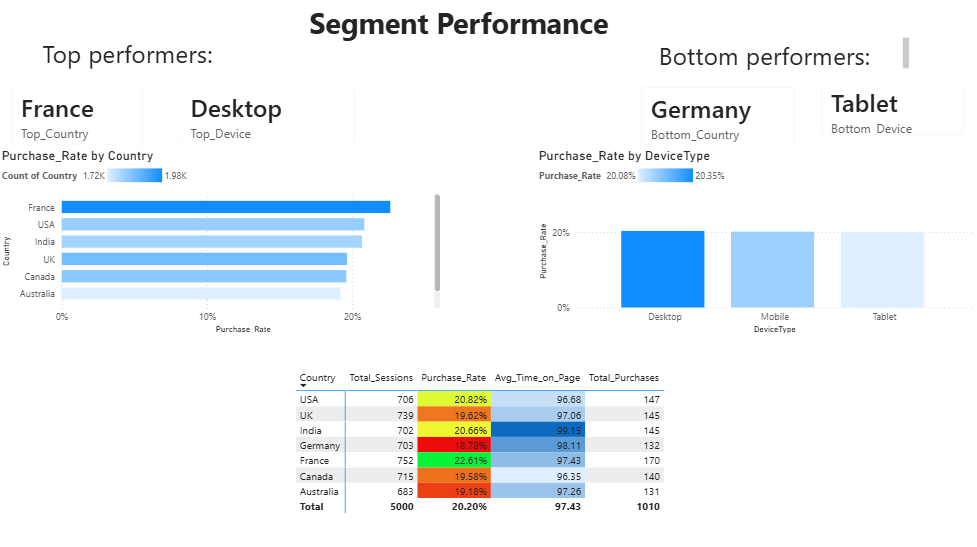

Layout of this report page (visuals, bound fields, positions):
{"tool":"powerbi","page":{"name":"segment preformance","canvas":[1280,720],"ordinal":2},"visuals":[{"type":"textbox","box":[401.9,0,451,84.2],"z":0},{"type":"cardVisual","fields":{"Data":["key_measures.Top_Country"]},"box":[0,96.8,206.5,111.3],"z":1000},{"type":"cardVisual","fields":{"Data":["key_measures.Bottom_Country"]},"box":[824.2,98.4,235.5,109.7],"z":2000},{"type":"cardVisual","fields":{"Data":["key_measures.Top_Device"]},"box":[221,95.2,262.9,111.3],"z":3000},{"type":"cardVisual","fields":{"Data":["key_measures.Bottom_Device"]},"box":[1059.7,95.2,221,98.4],"z":4000},{"type":"pivotTable","fields":{"Rows":["customer_journey.Country"],"Values":["key_measures.Total_Sessions","key_measures.Purchase_Rate","key_measures.Avg_Time_on_Page","key_measures.Total_Purchases"]},"box":[384.3,478.4,509.8,241.2],"z":5000},{"type":"textbox","box":[53.2,43.5,254.8,53.2],"z":8000},{"type":"textbox","box":[858.1,45.2,337.1,51.6],"z":9000},{"type":"barChart","fields":{"Category":["customer_journey.Country"],"Y":["key_measures.Purchase_Rate"]},"box":[0,194.3,582.9,247.7],"z":9001},{"type":"clusteredColumnChart","fields":{"Category":["customer_journey.DeviceType"],"Y":["key_measures.Purchase_Rate"]},"box":[702.7,194.3,576.4,247.7],"z":9002}]}

Visuals, with their boxes in screenshot pixels (x1, y1, x2, y2), scaled from the page's 1280x720 canvas onto the 977x547 screenshot:
textbox: bbox=[307, 0, 651, 64]
cardVisual - key_measures.Top_Country: bbox=[0, 74, 158, 158]
cardVisual - key_measures.Bottom_Country: bbox=[629, 75, 809, 158]
cardVisual - key_measures.Top_Device: bbox=[169, 72, 369, 157]
cardVisual - key_measures.Bottom_Device: bbox=[809, 72, 976, 147]
pivotTable - customer_journey.Country x key_measures.Total_Sessions: bbox=[293, 363, 682, 546]
textbox: bbox=[41, 33, 235, 73]
textbox: bbox=[655, 34, 912, 74]
barChart - customer_journey.Country x key_measures.Purchase_Rate: bbox=[0, 148, 445, 336]
clusteredColumnChart - customer_journey.DeviceType x key_measures.Purchase_Rate: bbox=[536, 148, 976, 336]
